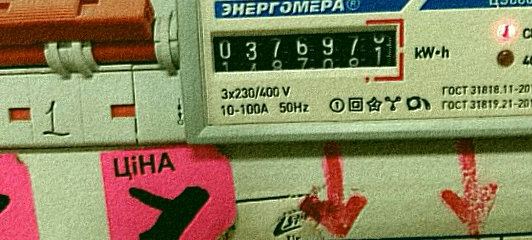0: (217, 38, 234, 59)
1: (373, 44, 385, 66)
3: (244, 38, 259, 62)
6: (296, 34, 310, 56)
7: (270, 34, 284, 59), (347, 32, 361, 56)
9: (321, 34, 335, 56)
screen: (204, 15, 410, 93)
